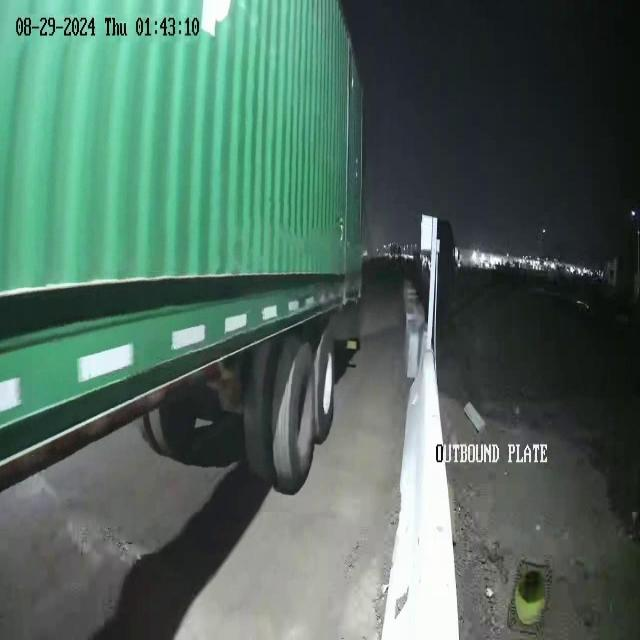TRUCK_OUT: (1, 1, 365, 496)
